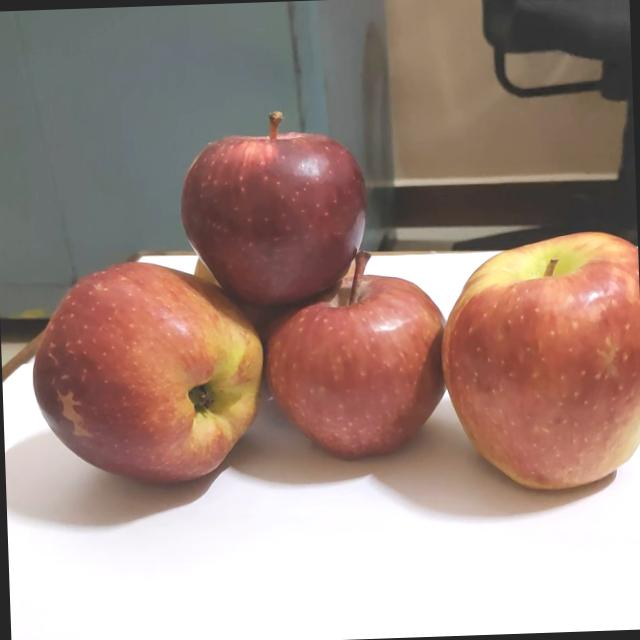apple: (422, 213, 640, 496), (20, 242, 269, 488), (167, 90, 376, 306), (257, 242, 448, 468), (184, 236, 232, 294)
